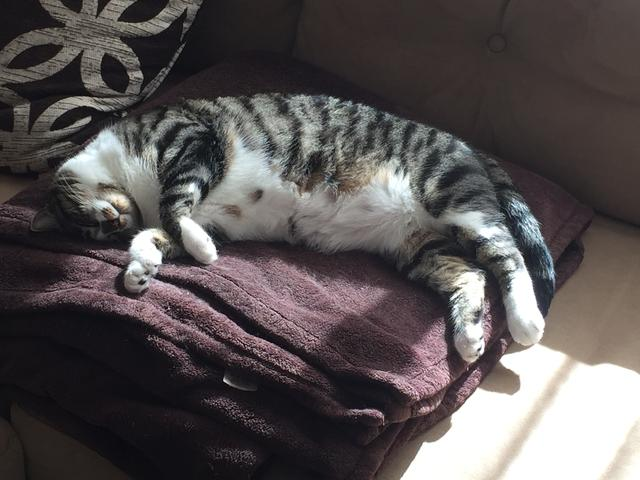playdoh: (26, 87, 557, 367)
